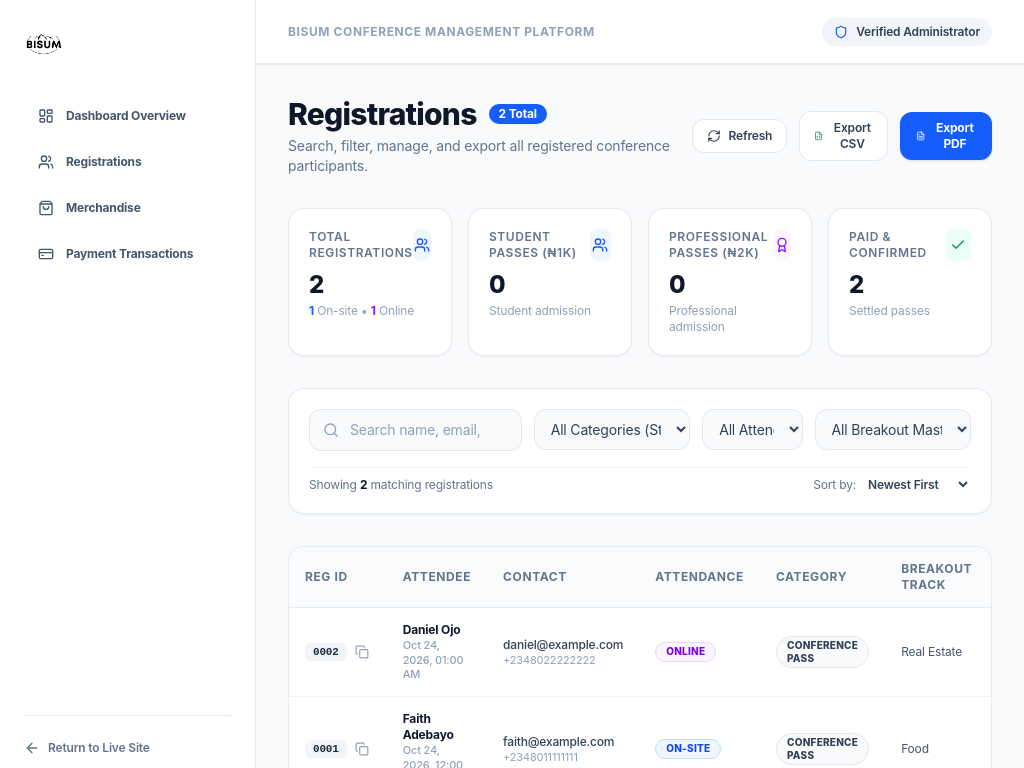
it: AdminRegistrationsPage Breakout Sessions & Filtering › filters attendees according to selected breakout session
This screenshot has width=1024, height=768.
Expected: the text "Faith Adebayo" is shown, [403, 711, 454, 742]
Expected: the text "Daniel Ojo" is shown, [403, 622, 460, 637]
Select "Food" in the 3rd dropdown at (893,430), box [814, 409, 971, 450]
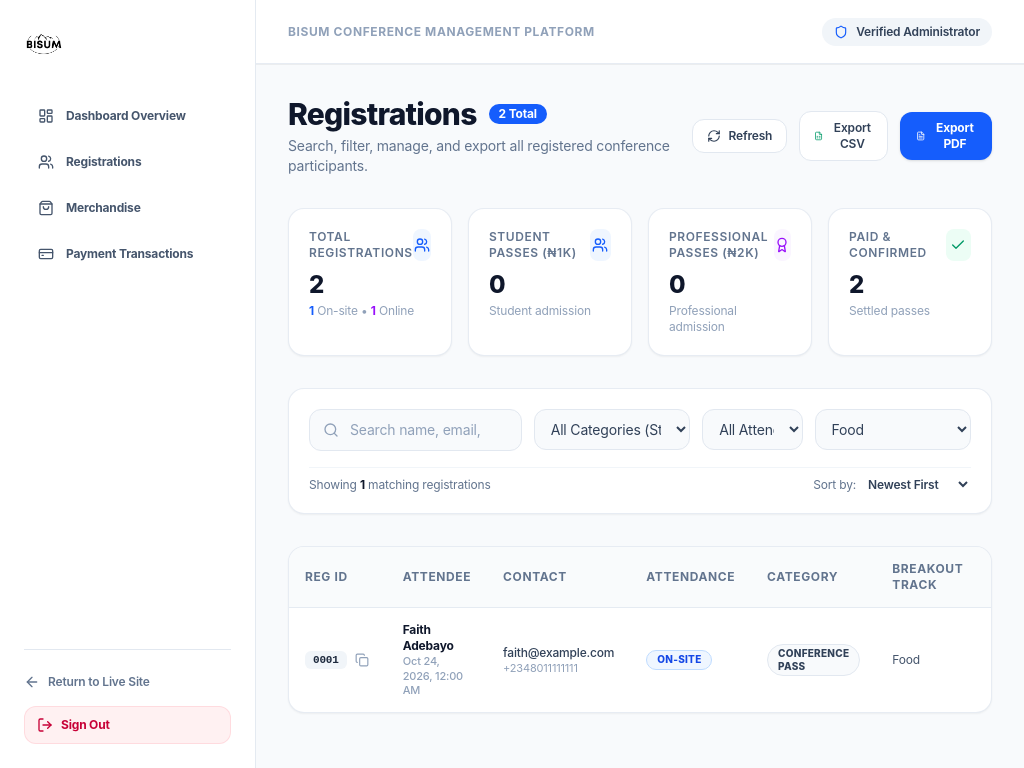
Expected: the text "Faith Adebayo" is shown, [403, 622, 454, 653]
Expected: the text "Daniel Ojo" is gone
